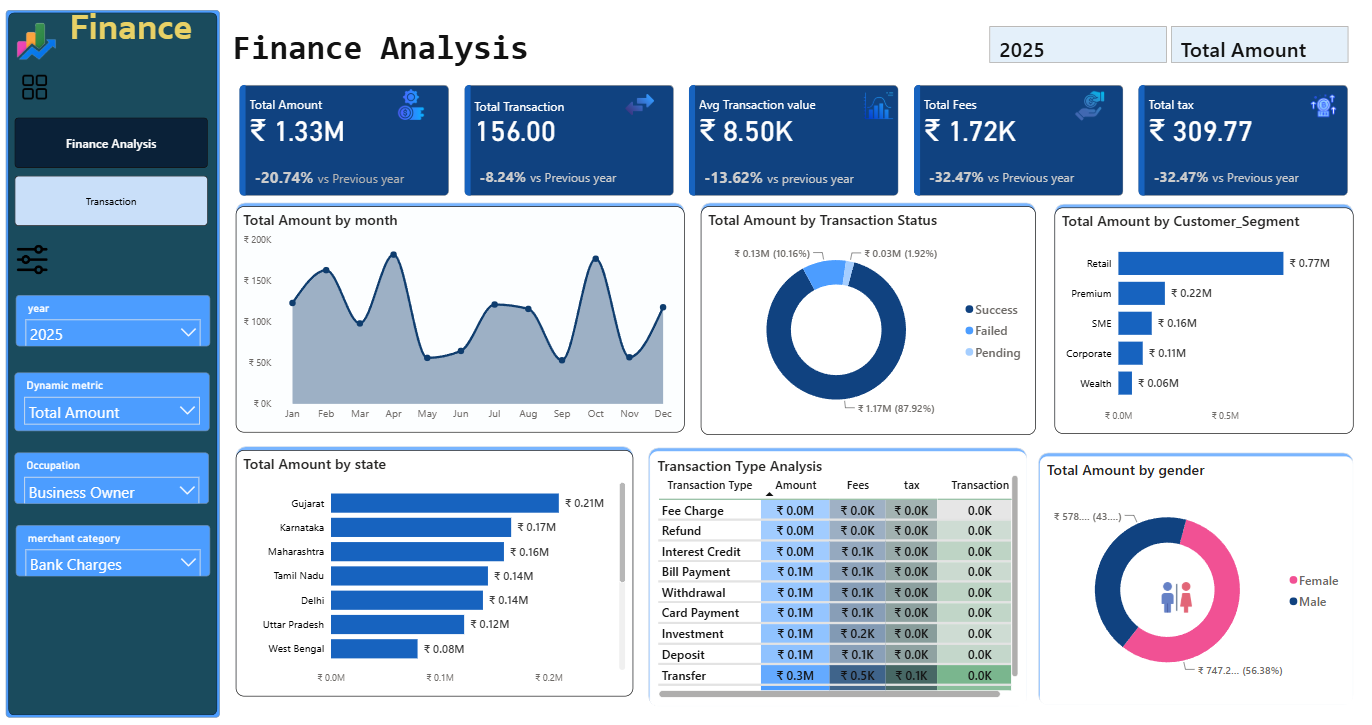

This screenshot's page, from the dashboard's own definition file:
{"tool":"powerbi","page":{"name":"Finance Analysis","canvas":[1800,950],"ordinal":0},"visuals":[{"type":"shape","box":[11.4,13.1,279.6,925.5],"z":0},{"type":"image","box":[0,0,102.3,108.1],"z":2000},{"type":"cardVisual","fields":{"Data":["calender table.Tittle"]},"box":[291.1,11.4,499.8,94.6],"z":3000},{"type":"textbox","box":[71.4,0,206.5,75.3],"z":4000},{"type":"slicer","fields":{"Values":["calender table.year"]},"box":[24.5,385.9,254.7,67.5],"z":5000},{"type":"cardVisual","fields":{"Data":["finance_transactions.Total Amount","finance_transactions.Total Transaction","finance_transactions.Avg Transaction value","finance_transactions.Total Fees","finance_transactions.Total tax"]},"box":[312.3,106.3,1461.9,155.3],"z":6000},{"type":"image","box":[516.7,111.2,50,50.7],"z":7000},{"type":"image","box":[816,111.2,50,50.7],"z":8000},{"type":"image","box":[1404.6,112.8,50,50.7],"z":9000},{"type":"image","box":[1128.3,112.8,50,50.7],"z":10000},{"type":"image","box":[1710.4,112.8,50,50.7],"z":11000},{"type":"slicer","fields":{"Values":["Dynamic metric.Dynamic metric"]},"box":[22.9,487.3,255.1,76.9],"z":12000},{"type":"shape","box":[312.3,264.9,587,299.2],"z":13000},{"type":"areaChart","fields":{"Category":["calender table.month"],"Y":["finance_transactions.Total Amount"]},"box":[312.3,269.8,587,296],"z":14000},{"type":"cardVisual","fields":{"Data":["finance_transactions.Selected year","finance_transactions.selected Dynamic measure"]},"box":[1293.4,29.4,480.7,58.9],"z":15000},{"type":"shape","box":[920.6,264.9,438.2,299.2],"z":16000},{"type":"donutChart","fields":{"Category":["finance_transactions.transaction_status"],"Y":["finance_transactions.Total Amount"]},"box":[920.6,269.8,438.2,299.2],"z":17000},{"type":"shape","box":[1383.4,266.5,390.8,299.2],"z":18000},{"type":"barChart","fields":{"Category":["customers.customer_segment"],"Y":["finance_transactions.Total Amount"]},"box":[1383.4,271.4,390.8,296],"z":19000},{"type":"shape","box":[312.3,583.8,520,327],"z":20000},{"type":"barChart","fields":{"Category":["customers.state"],"Y":["finance_transactions.Total Amount"]},"box":[312.3,588.7,520,322.1],"z":21000},{"type":"shape","box":[851.9,585.4,495.5,338.5],"z":22000},{"type":"tableEx","title":"Transaction Type Analysis","fields":{"Values":["finance_transactions.transaction_type","finance_transactions.Total Amount","finance_transactions.Total Fees","finance_transactions.Total tax","finance_transactions.Total Transaction"]},"box":[853.6,590.3,493.8,333.6],"z":23000},{"type":"shape","box":[1362.1,591.9,412.1,330.3],"z":24000},{"type":"donutChart","fields":{"Category":["customers.gender"],"Y":["finance_transactions.Total Amount"]},"box":[1363.7,596.8,410.4,325.4],"z":25000},{"type":"image","box":[1514.2,753.8,58.9,55.6],"z":26000},{"type":"slicer","fields":{"Values":["customers.occupation"]},"box":[22.9,591.9,254.7,67.5],"z":27000},{"type":"slicer","fields":{"Values":["finance_transactions.merchant_category"]},"box":[24.5,686.8,254.7,67.5],"z":28000},{"type":"pageNavigator","box":[22.9,153.7,253.5,142.3],"z":29000},{"type":"image","box":[21.3,314,50,50.7],"z":29001},{"type":"image","box":[24.5,88.3,50,50.7],"z":29002}]}

Visuals, with their boxes on the page's 1800x950 design canvas (x1, y1, x2, y2). These are canvas units, not pixel positions in the 1372x725 screenshot, which may show the page scaled, cropped or inside an application window:
shape: 11/13/291/939
image: 0/0/102/108
cardVisual - calender table.Tittle: 291/11/791/106
textbox: 71/0/278/75
slicer - calender table.year: 24/386/279/453
cardVisual - finance_transactions.Total Amount x finance_transactions.Total Transaction: 312/106/1774/262
image: 517/111/567/162
image: 816/111/866/162
image: 1405/113/1455/164
image: 1128/113/1178/164
image: 1710/113/1760/164
slicer - Dynamic metric.Dynamic metric: 23/487/278/564
shape: 312/265/899/564
areaChart - calender table.month x finance_transactions.Total Amount: 312/270/899/566
cardVisual - finance_transactions.Selected year x finance_transactions.selected Dynamic measure: 1293/29/1774/88
shape: 921/265/1359/564
donutChart - finance_transactions.transaction_status x finance_transactions.Total Amount: 921/270/1359/569
shape: 1383/266/1774/566
barChart - customers.customer_segment x finance_transactions.Total Amount: 1383/271/1774/567
shape: 312/584/832/911
barChart - customers.state x finance_transactions.Total Amount: 312/589/832/911
shape: 852/585/1347/924
"Transaction Type Analysis" tableEx: 854/590/1347/924
shape: 1362/592/1774/922
donutChart - customers.gender x finance_transactions.Total Amount: 1364/597/1774/922
image: 1514/754/1573/809
slicer - customers.occupation: 23/592/278/659
slicer - finance_transactions.merchant_category: 24/687/279/754
pageNavigator: 23/154/276/296
image: 21/314/71/365
image: 24/88/74/139
